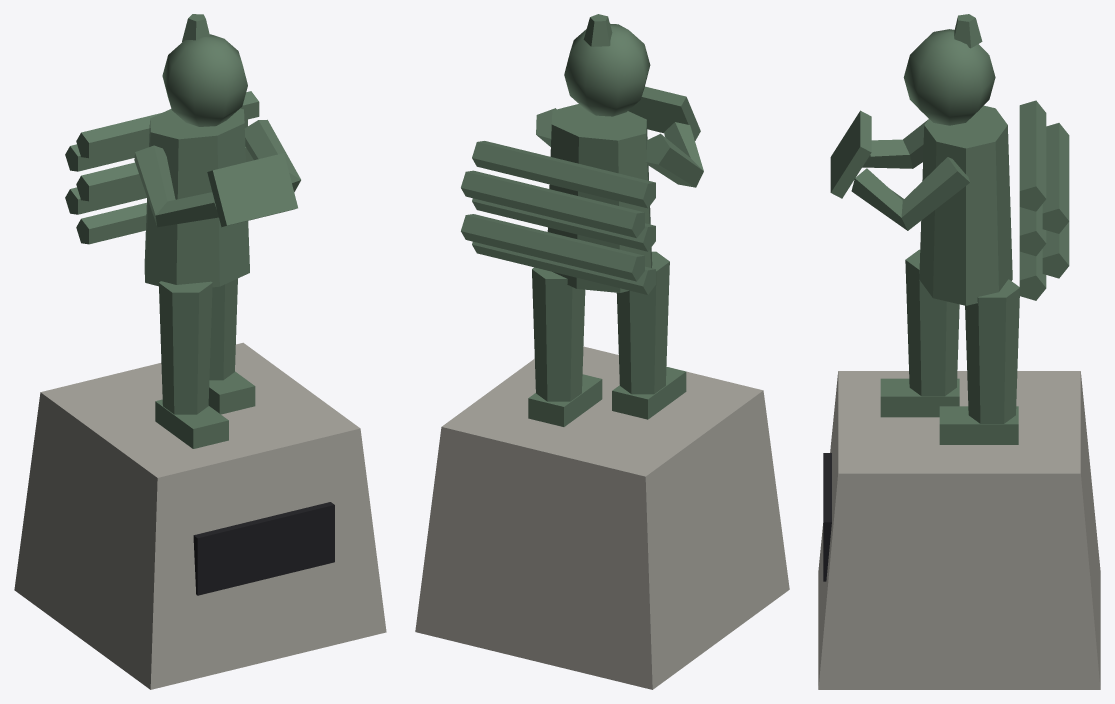
The model's file is p_statue.glb.
3 renders of one model, left to right at view 1: azimuth 30°, elevation 25°; view 2: azimuth 150°, elevation 25°; view 3: azimuth 270°, elevation 25°, orthographic. The views are drawn at different scales.
Parts seen in each view (by area): view 1: statue; view 2: statue; view 3: statue.
Boxes of the visible parts, x1,y1,x2,y2 form: statue: [14, 14, 386, 689]; statue: [415, 14, 789, 689]; statue: [818, 14, 1100, 689].
Bounding box in the file's own units: 0.86 × 2.06 × 0.86.
